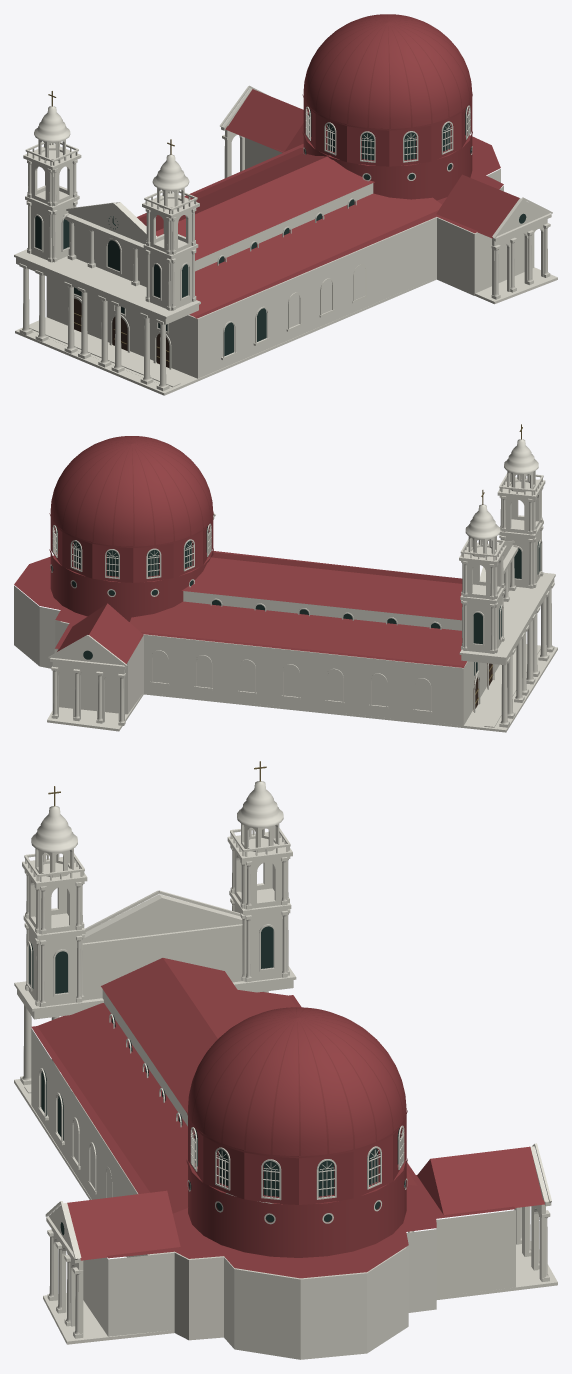
The model's file is catedral-de-alajuela-near.glb.
The picture shows the model from 3 angles, top to bottom: view 1: azimuth 30°, elevation 25°; view 2: azimuth 150°, elevation 25°; view 3: azimuth 270°, elevation 25°; orthographic projection. The views are drawn at different scales.
Parts seen in each view (by area): view 1: catedral-de-alajuela-0-wall, catedral-de-alajuela-0-roof, catedral-de-alajuela-0-glass, catedral-de-alajuela-0-seam, catedral-de-alajuela-0-door; view 2: catedral-de-alajuela-0-wall, catedral-de-alajuela-0-roof, catedral-de-alajuela-0-glass, catedral-de-alajuela-0-seam; view 3: catedral-de-alajuela-0-roof, catedral-de-alajuela-0-wall, catedral-de-alajuela-0-glass, catedral-de-alajuela-0-seam.
Part boxes in pixels (<box>): catedral-de-alajuela-0-wall: <box>14,85,557,395</box>; catedral-de-alajuela-0-roof: <box>137,14,519,318</box>; catedral-de-alajuela-0-glass: <box>35,107,526,356</box>; catedral-de-alajuela-0-seam: <box>303,14,470,128</box>; catedral-de-alajuela-0-door: <box>74,298,169,367</box>; catedral-de-alajuela-0-wall: <box>14,439,557,732</box>; catedral-de-alajuela-0-roof: <box>14,436,467,667</box>; catedral-de-alajuela-0-glass: <box>51,526,540,675</box>; catedral-de-alajuela-0-seam: <box>50,436,212,546</box>; catedral-de-alajuela-0-roof: <box>31,958,544,1278</box>; catedral-de-alajuela-0-wall: <box>14,781,557,1359</box>; catedral-de-alajuela-0-glass: <box>29,926,406,1255</box>; catedral-de-alajuela-0-seam: <box>188,1007,405,1155</box>.
Bounding box in the file's own units: 75.56 × 35.55 × 56.45.
